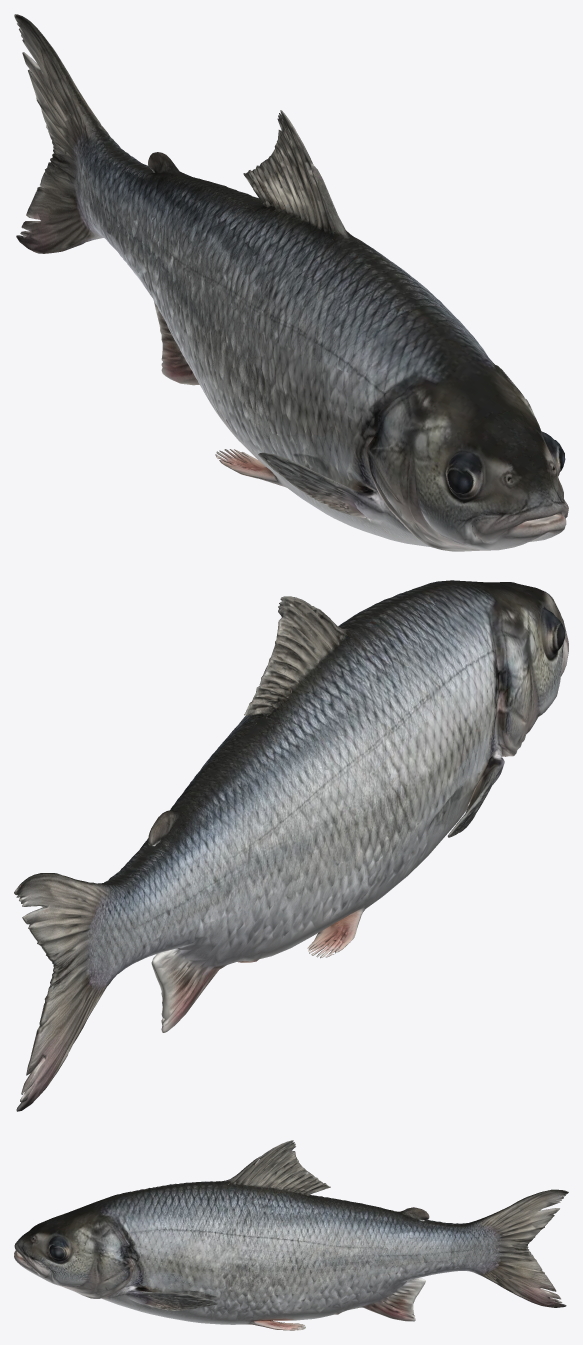
Rendered from fish.glb.
3 renders of one model, top to bottom at view 1: azimuth 30°, elevation 25°; view 2: azimuth 150°, elevation 25°; view 3: azimuth 270°, elevation 25°, orthographic. The views are drawn at different scales.
Bounding box in the file's own units: 0.408 × 0.6867 × 1.91.
Materials: 1 (1 with a texture image).
